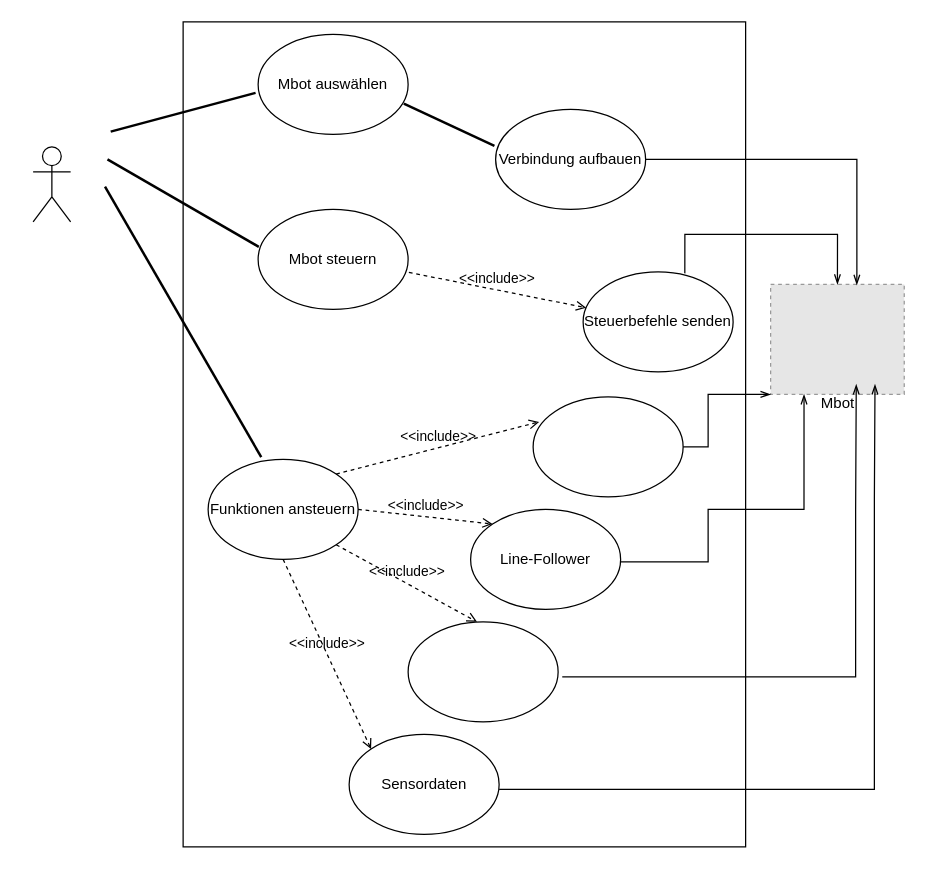
The diagram is 926 pixels wide and 869 high, and some of its shapes have lost their labels. Grey dashed boxes stand in for pictures. The box of each missing label's shape, as (x1, y1, x2, y2) in pixels:
Benutzer: (32, 146, 71, 222)
Lichtsensoren: (532, 396, 683, 497)
Sicherheitsmodus (Suicide-Prevention): (407, 621, 558, 722)
